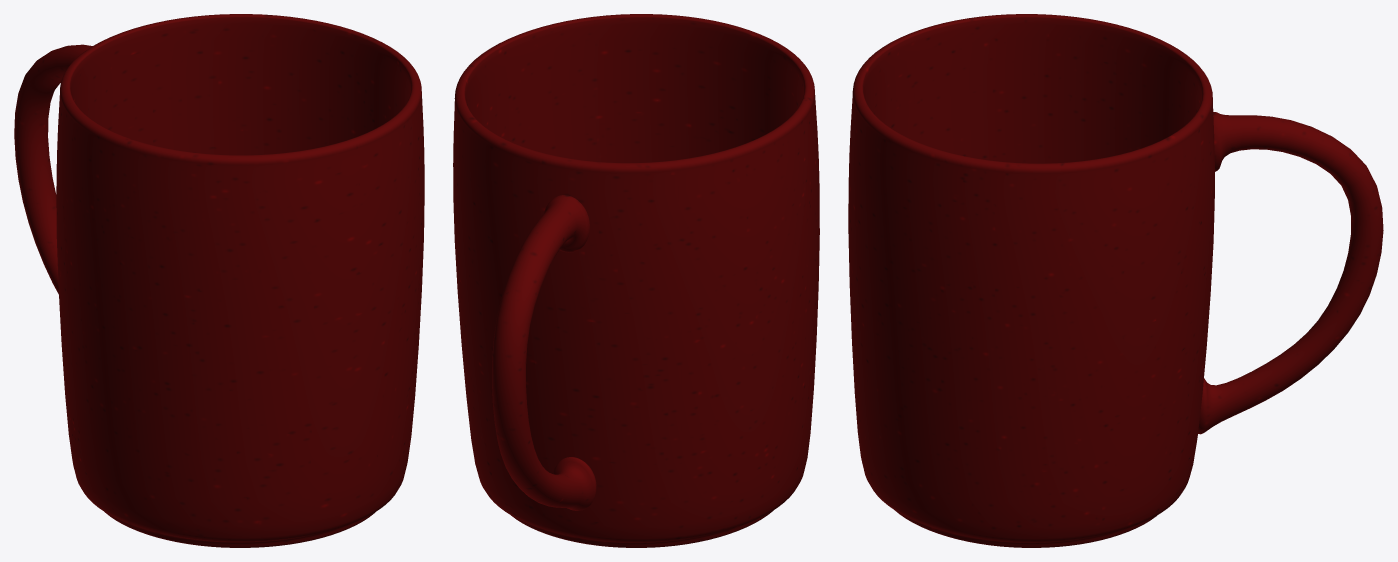
File: cafe.glb
3 renders of one model, left to right at view 1: azimuth 30°, elevation 25°; view 2: azimuth 150°, elevation 25°; view 3: azimuth 270°, elevation 25°, orthographic.
Parts seen in each view (by area): view 1: Object_3; view 2: Object_3; view 3: Object_3.
Boxes of the visible parts, x1=… form: Object_3: x1=14, y1=14, x2=424, y2=547; Object_3: x1=453, y1=14, x2=819, y2=547; Object_3: x1=848, y1=14, x2=1383, y2=547.
Size of the model in its own units: 7.99 by 9.7 by 11.67.
Materials: 1 (1 with a texture image).
